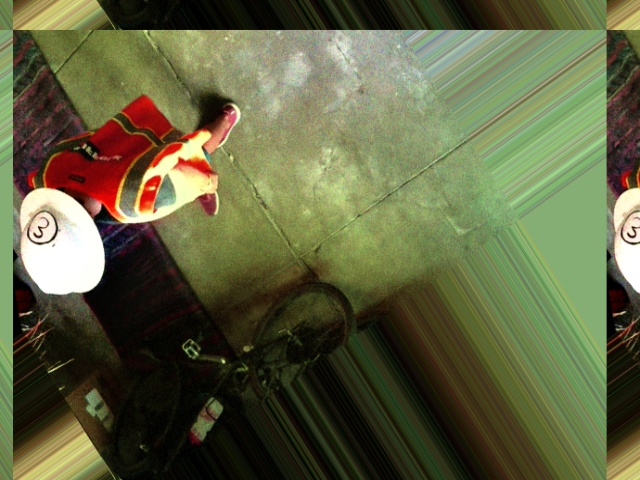three: (19, 205, 64, 252)
